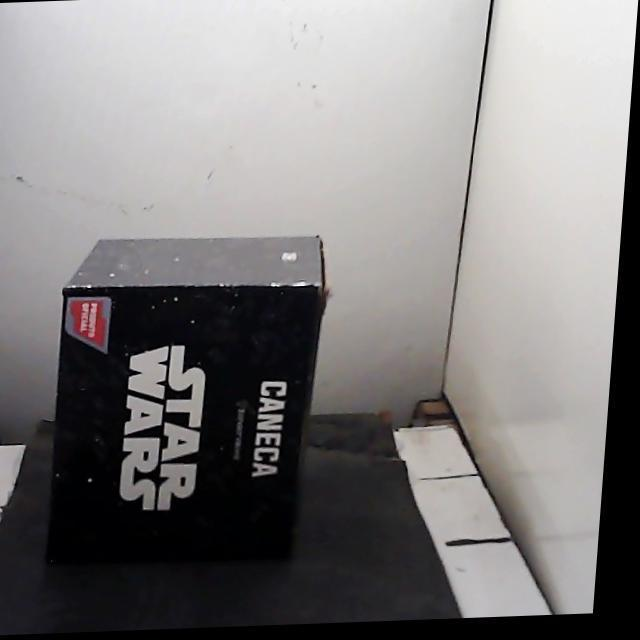papel: (46, 238, 325, 562)
